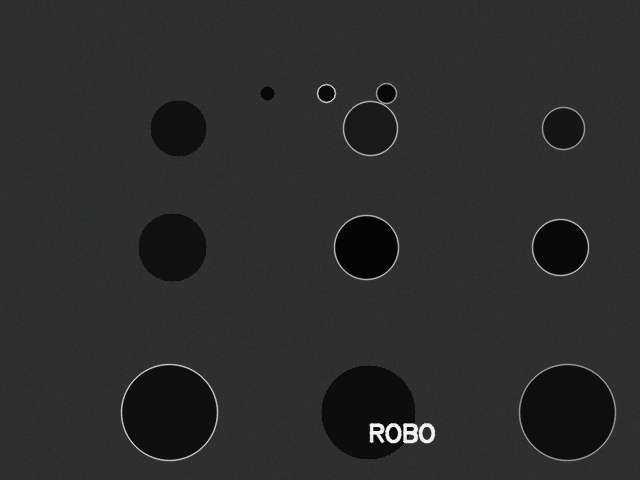hole: (121, 364, 217, 460), (519, 364, 615, 460), (321, 365, 415, 459), (138, 213, 206, 281), (334, 215, 398, 279), (150, 100, 206, 156), (532, 219, 588, 275), (343, 101, 397, 155), (542, 107, 584, 149), (376, 83, 396, 103), (317, 84, 335, 102), (260, 86, 274, 100)
